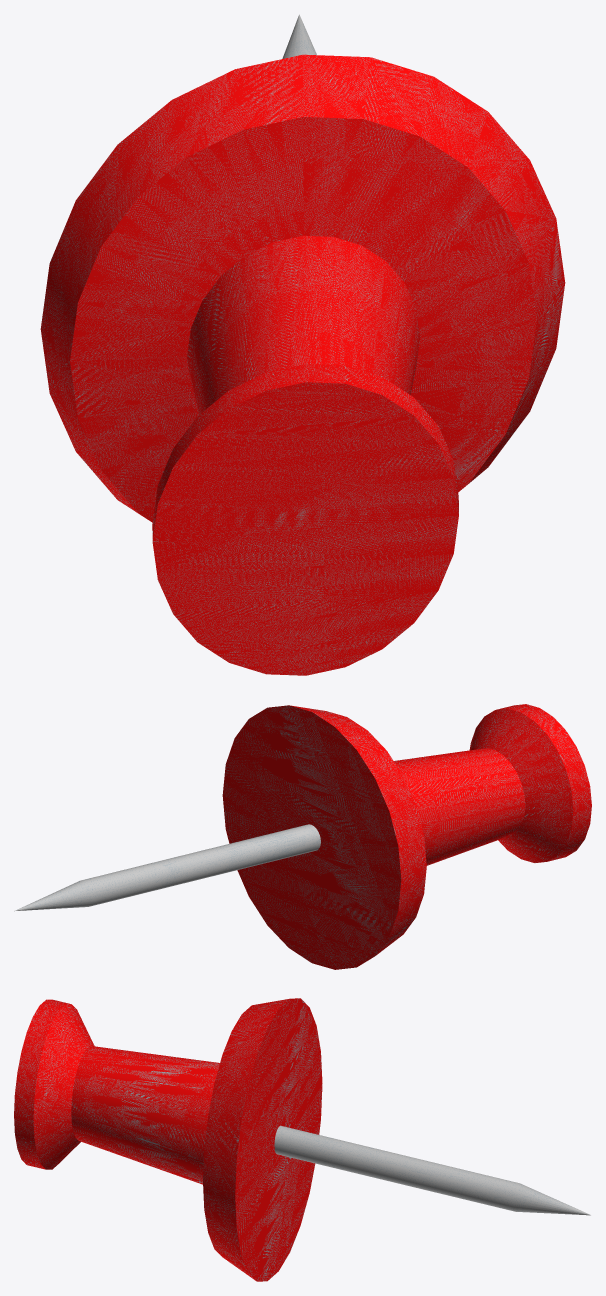
Rendered from pin.dae.
3 renders of one model, top to bottom at view 1: azimuth 30°, elevation 25°; view 2: azimuth 150°, elevation 25°; view 3: azimuth 270°, elevation 25°, orthographic. The views are drawn at different scales.
Parts seen in each view (by area): view 1: group_0; view 2: group_0, group_1; view 3: group_0, group_1.
Boxes of the visible parts, bbox=[...] form: group_0: bbox=[40, 54, 565, 675]; group_0: bbox=[222, 704, 591, 969]; group_1: bbox=[14, 824, 320, 911]; group_0: bbox=[14, 998, 322, 1281]; group_1: bbox=[274, 1125, 590, 1215].
Size of the model in its own units: 0.0248 by 0.0364 by 0.0183.
